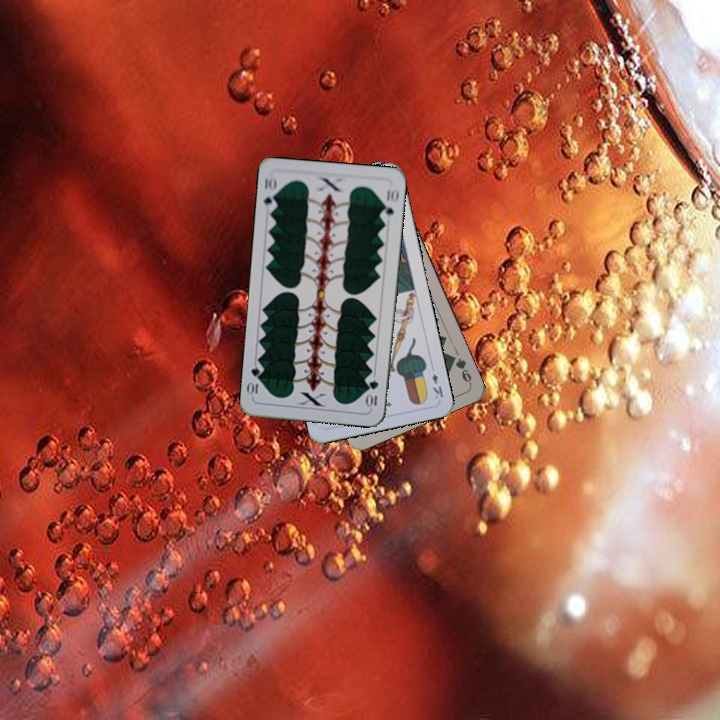EK: (428, 369, 446, 402)
G10: (260, 172, 280, 213), (364, 376, 381, 410)
G9: (446, 351, 474, 387)
